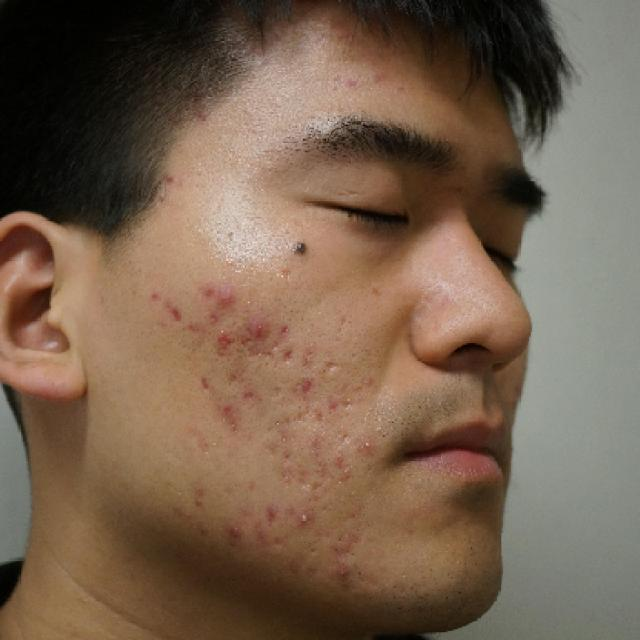Acne: (211, 285, 243, 312), (275, 340, 300, 372), (320, 354, 346, 380), (277, 443, 300, 471), (334, 425, 357, 452), (292, 503, 317, 526)
